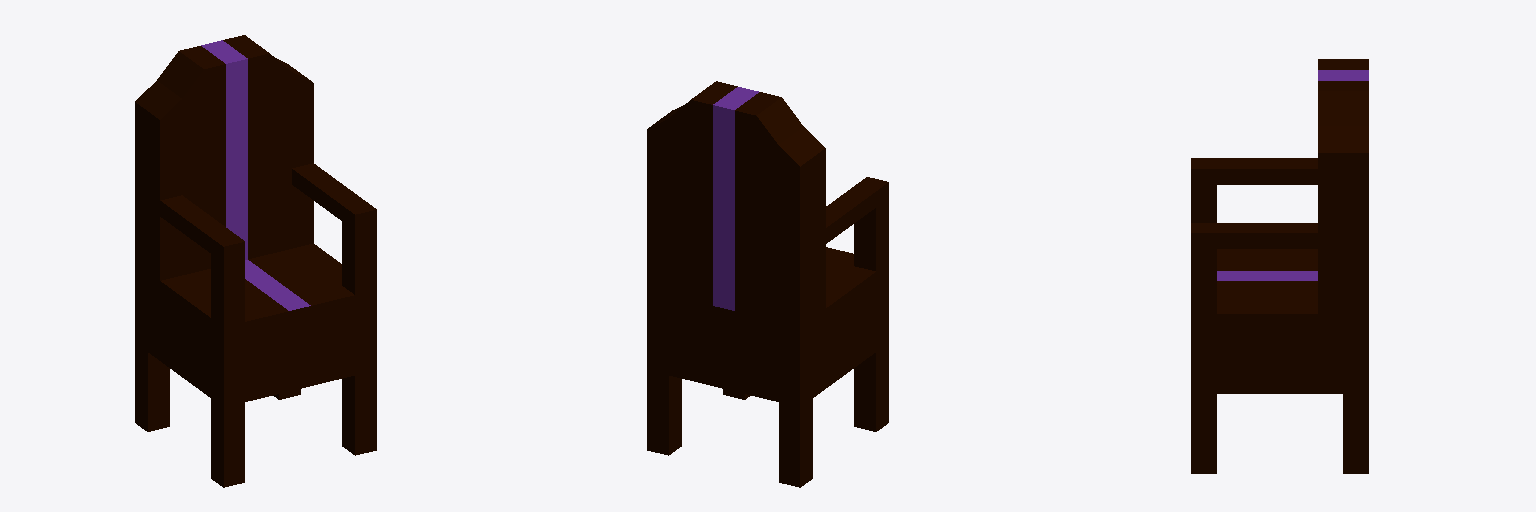
The model's file is chair_brown.obj.
3 renders of one model, left to right at view 1: azimuth 30°, elevation 25°; view 2: azimuth 150°, elevation 25°; view 3: azimuth 270°, elevation 25°, orthographic.
Parts seen in each view (by area): view 1: Cube_Cube.001; view 2: Cube_Cube.001; view 3: Cube_Cube.001.
Boxes of the visible parts, x1,y1,x2,y2 form: Cube_Cube.001: [135, 35, 376, 487]; Cube_Cube.001: [647, 81, 888, 487]; Cube_Cube.001: [1191, 59, 1368, 473].
Size of the model in its own units: 1.4 by 3.15 by 1.4.